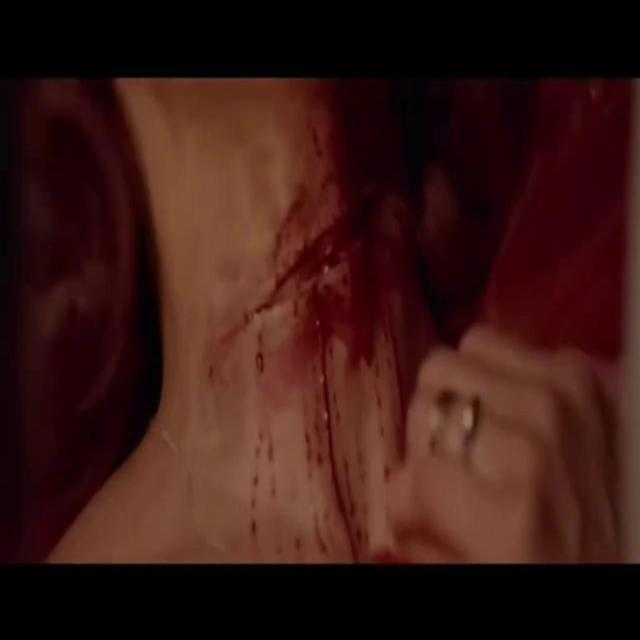flood: (226, 159, 534, 539)
